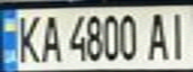0: (118, 10, 142, 62), (103, 11, 121, 62)
4: (63, 10, 87, 62)
8: (84, 11, 106, 62)
A: (145, 9, 172, 62), (36, 11, 63, 63)
I: (163, 8, 193, 61)
K: (12, 11, 42, 64)
